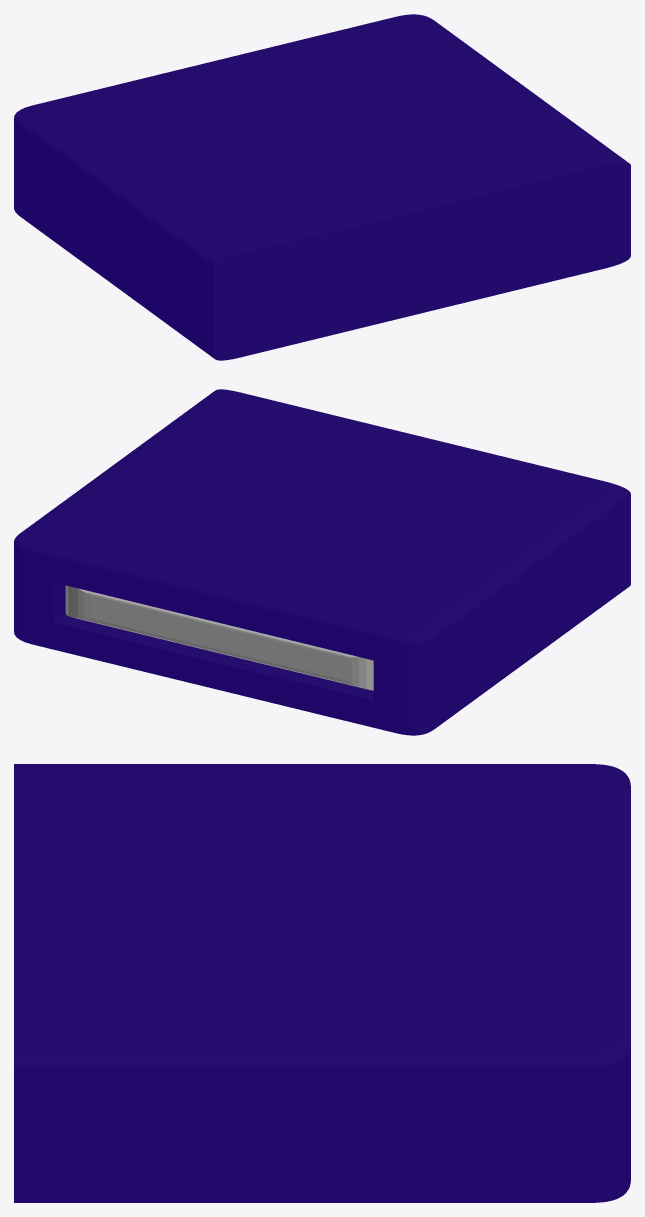
The model's file is LaserGlassesRed.fbx.
The picture shows the model from 3 angles, top to bottom: view 1: azimuth 30°, elevation 25°; view 2: azimuth 150°, elevation 25°; view 3: azimuth 270°, elevation 25°; orthographic projection. The views are drawn at different scales.
Visible parts, largest first — view 1: Cube.035; view 2: Cube.035; view 3: Cube.035.
Part boxes in pixels (box(x1,y1,x2,y2)): Cube.035: box(14, 14, 630, 360); Cube.035: box(14, 389, 630, 735); Cube.035: box(14, 764, 630, 1202).
Size of the model in its own units: 110 by 26 by 95.6.
